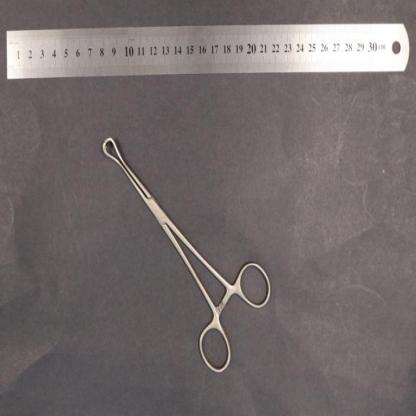Babcock Tissue Forceps: (102, 136, 273, 374)
